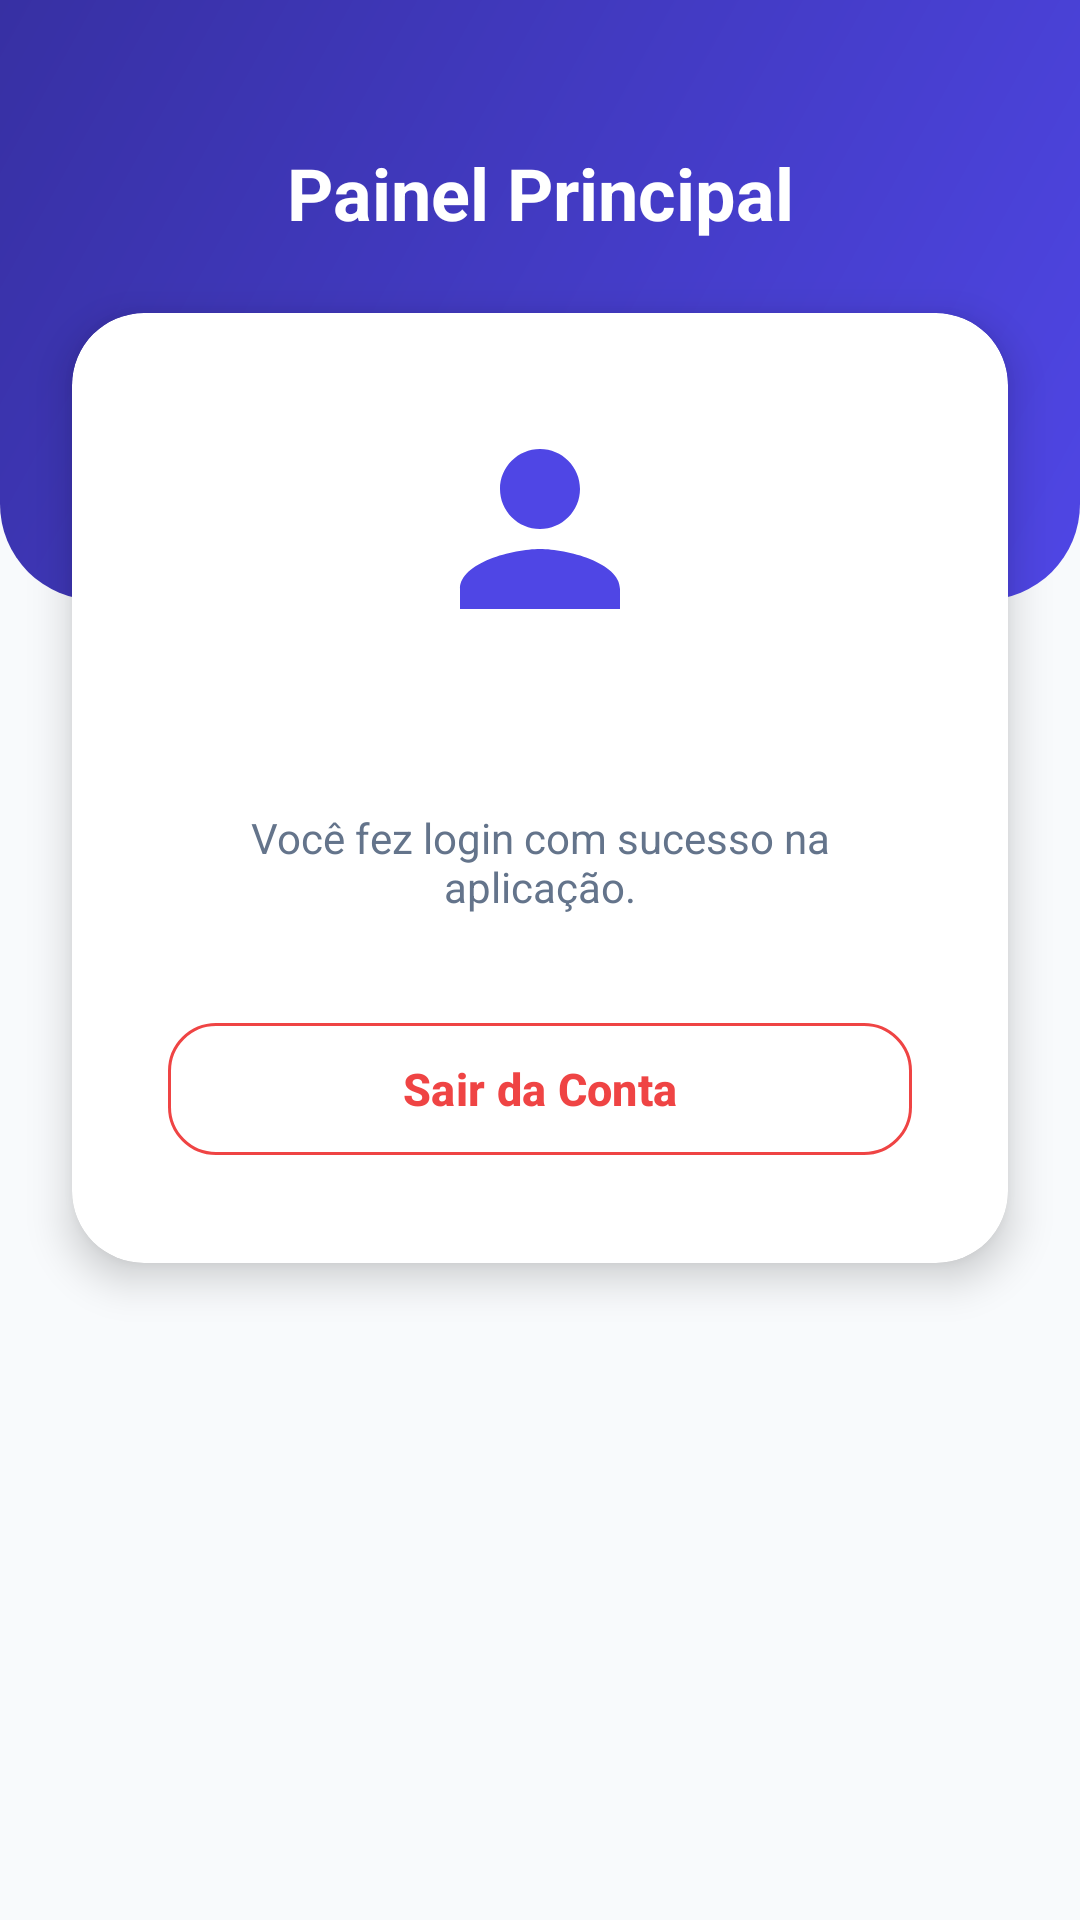

Icons on this 1080px x 1920px Android screen, each with the point to tap as point (x, y):
person: point (540, 529)
